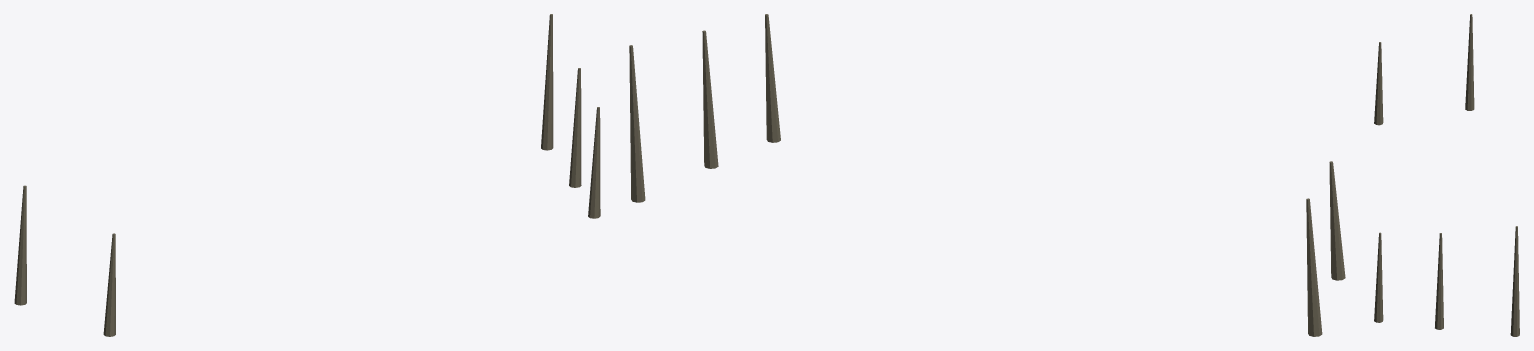
The model's file is teaching3-vegetation-10-near.glb.
3 views of the same model, side by side, from view 1: azimuth 30°, elevation 25°; view 2: azimuth 150°, elevation 25°; view 3: azimuth 270°, elevation 25° (orthographic). The views are drawn at different scales.
Visible parts, largest first — view 1: vegetation palm trunk; view 2: vegetation palm trunk; view 3: vegetation palm trunk.
Part boxes in pixels (<box>): vegetation palm trunk: <box>14,14,600,336</box>; vegetation palm trunk: <box>629,14,1345,336</box>; vegetation palm trunk: <box>1374,14,1519,336</box>.
Bounding box in the file's own units: 35.95 × 8.02 × 9.61.
